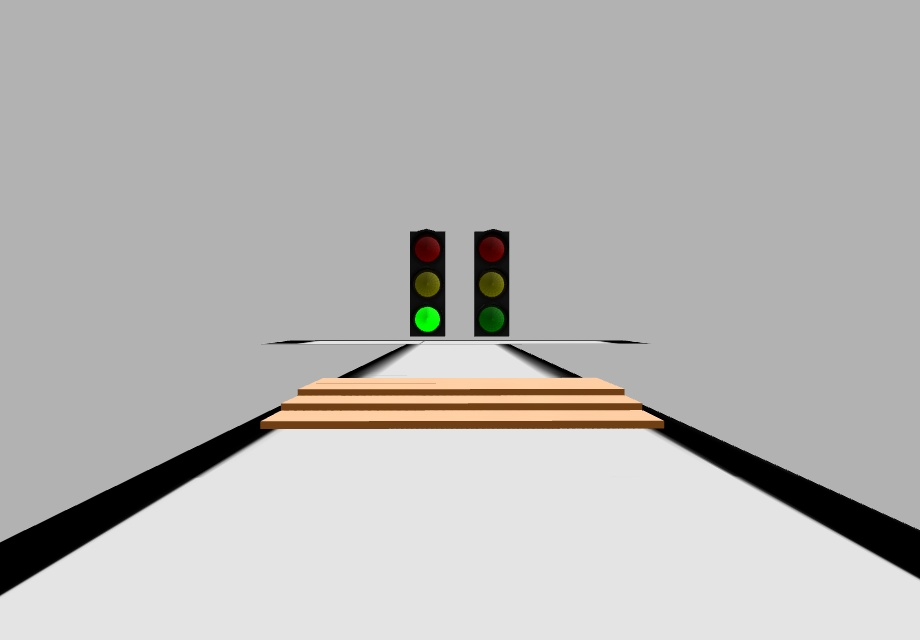green_off: (476, 305, 508, 334)
green_on: (412, 306, 443, 334)
stairs: (261, 377, 667, 429)
